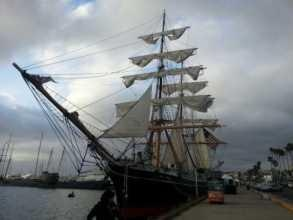fanchuan: (11, 5, 224, 219)
